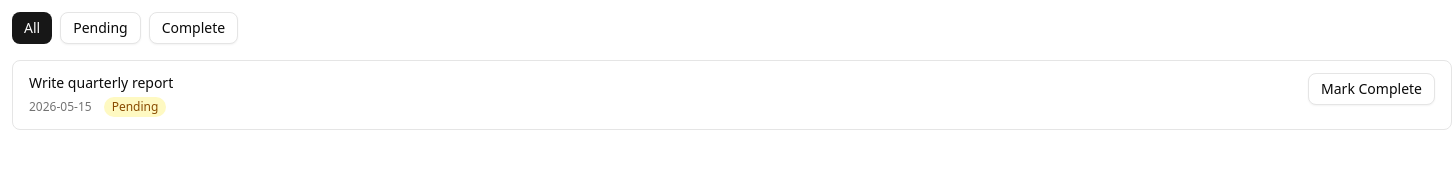
AC-4 & AC-5: Loading indicator shown while mark-complete request is in flight › AC-4: "Mark Complete" button shows a loading indicator after being clicked
Step 1. Click the button "Mark Complete" → {"x": 1372, "y": 89}, box [1308,73,1435,105]
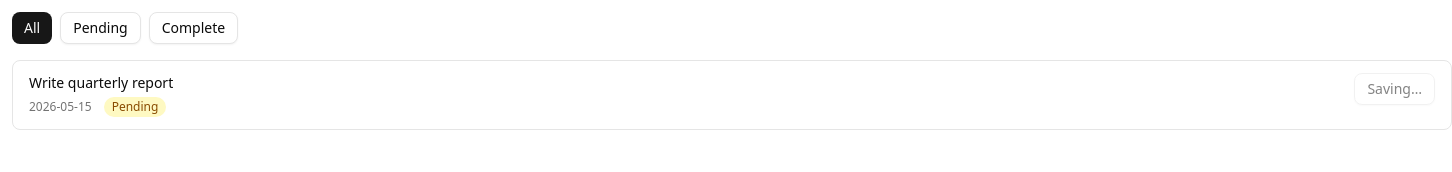
Expected: the button "Saving…" is disabled, [1354,73,1435,105]
